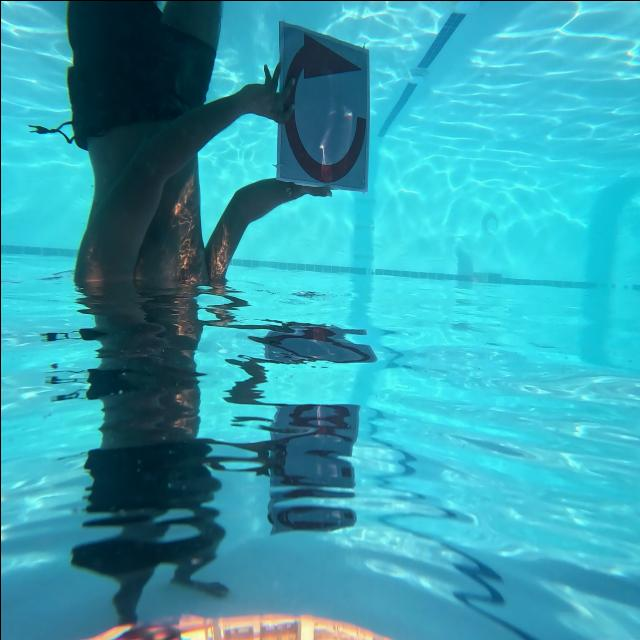red_side: (268, 17, 370, 201)
